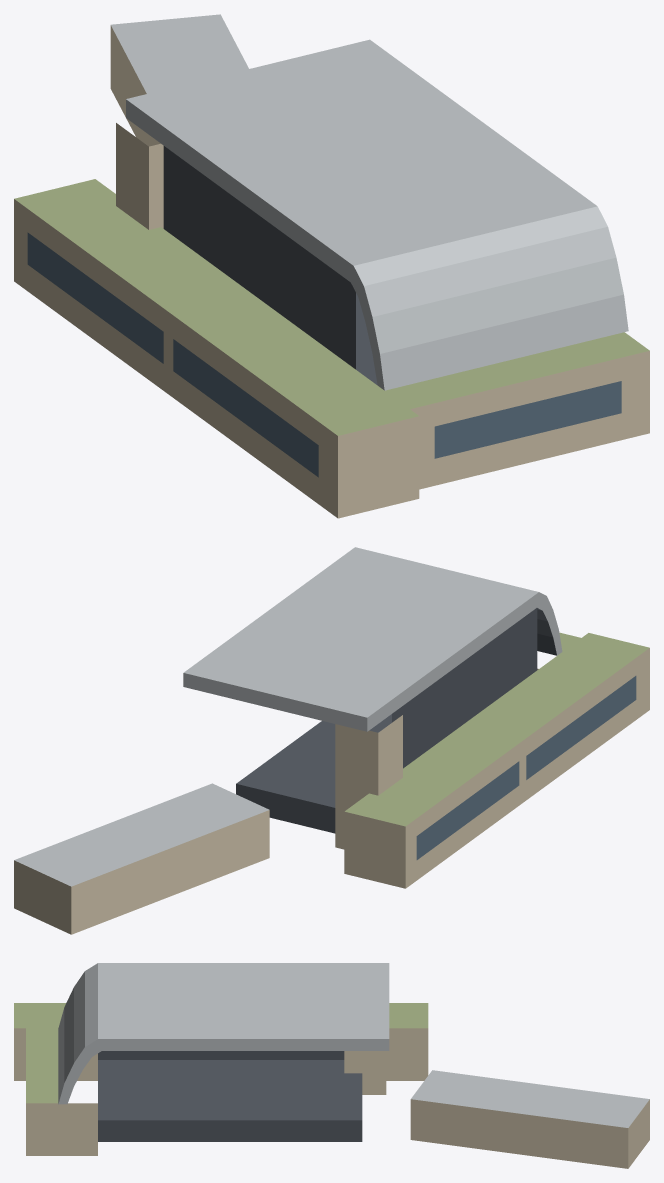
The model's file is nash-ascend-amphitheater.glb.
3 views of the same model, one above another, from view 1: azimuth 30°, elevation 25°; view 2: azimuth 150°, elevation 25°; view 3: azimuth 270°, elevation 25° (orthographic). The views are drawn at different scales.
Visible parts, largest first — view 1: Ascend Amphitheater; view 2: Ascend Amphitheater; view 3: Ascend Amphitheater.
Boxes of the visible parts, <box> form: Ascend Amphitheater: <box>14,14,649,518</box>; Ascend Amphitheater: <box>14,547,649,934</box>; Ascend Amphitheater: <box>14,963,649,1168</box>.
Bounding box in the file's own units: 44.7 × 21.7 × 106.
